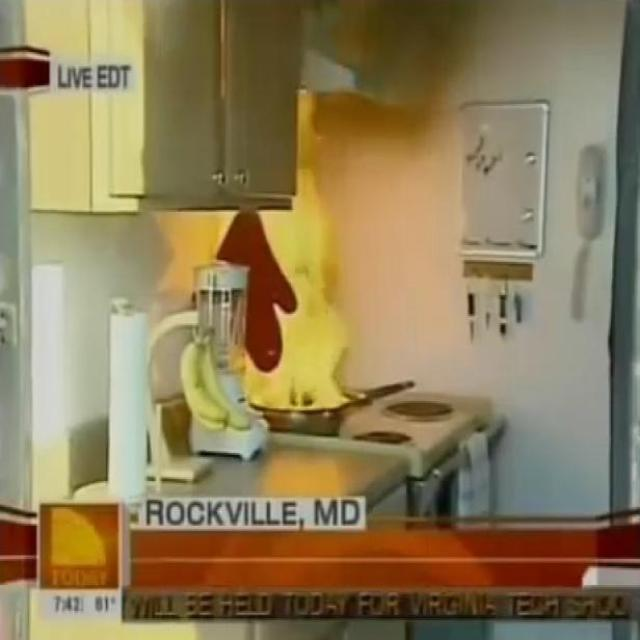fire: (304, 0, 481, 141)
smoke: (209, 88, 354, 414)
